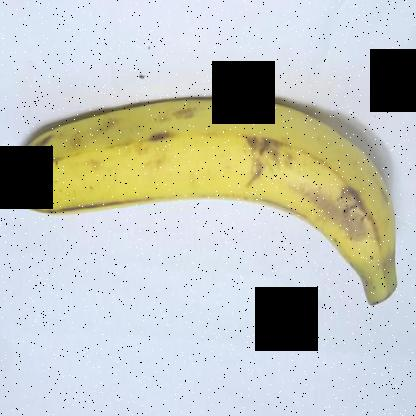ripe: (6, 79, 412, 312)
